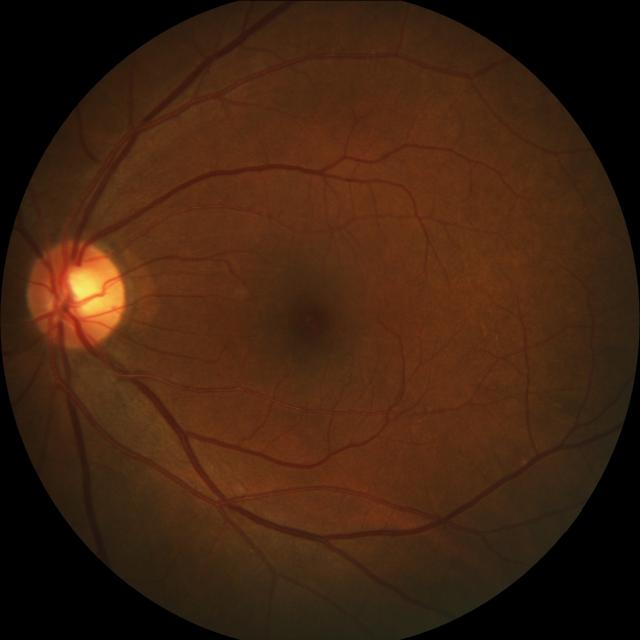OC: (48, 262, 104, 320)
OD: (25, 238, 124, 349)
